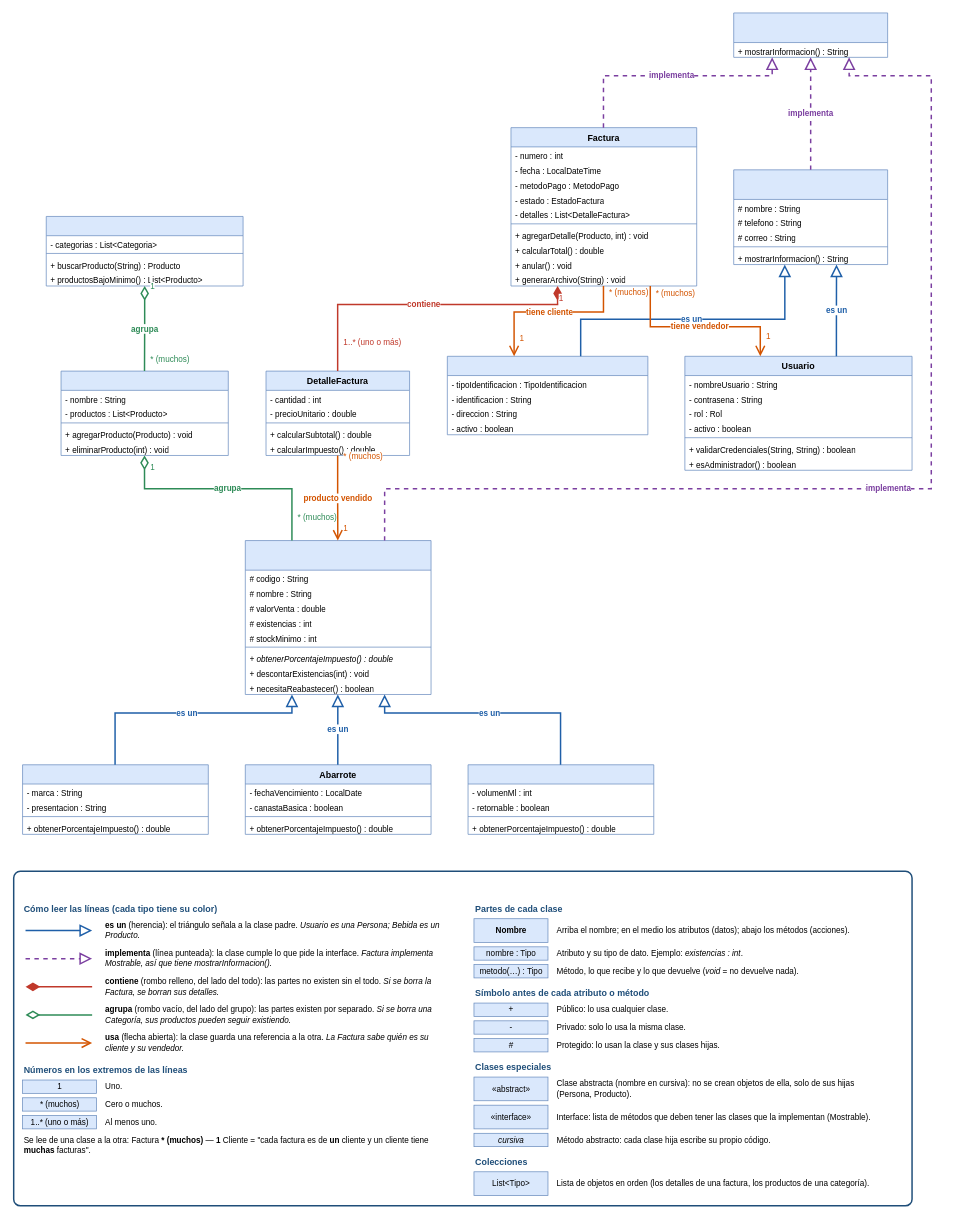
Image size: 955x1220. Some labels were removed from this diagram. The shapes that lost their labels are listed below. From the top down, each one's box as (x1, y1, x2, y2) in pixels, then its label:
(733, 12, 888, 57): «interface» Mostrable
(733, 169, 888, 265): «abstract» Persona
(46, 216, 243, 286): Inventario
(60, 370, 228, 455): Categoria
(447, 356, 648, 435): Cliente
(245, 540, 431, 694): «abstract» Producto
(22, 764, 208, 834): ArticuloHogar
(467, 764, 654, 834): Bebida
(13, 870, 912, 1206): Simbología del diagrama
